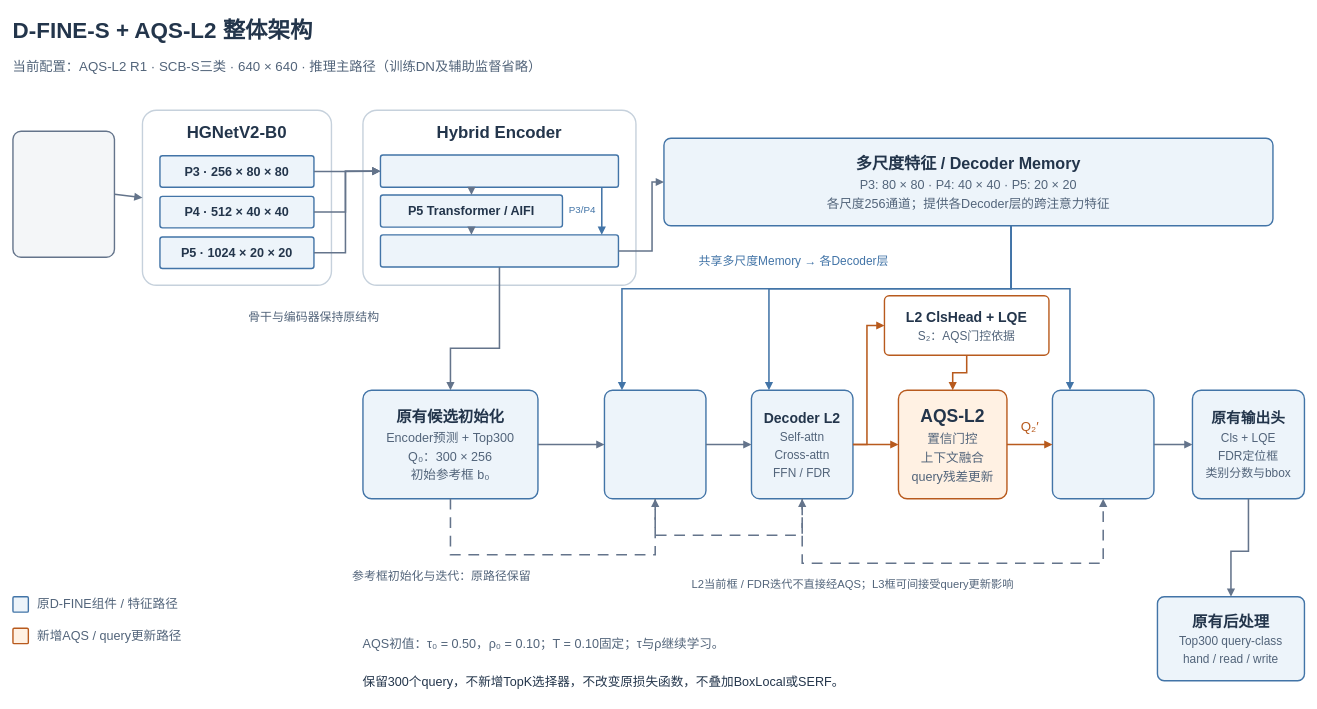
Image size: 1317x709. Some labels were removed from this diagram. Here are the shapes that lost their labels. From the top down, the box of each, then its label:
(379, 154, 619, 188): 1 × 1 投影：各尺度 → 256通道
(12, 130, 115, 258): 输入图像 640 × 640 RGB
(379, 234, 619, 267): 跨尺度融合：FPN → PAN
(603, 389, 706, 499): Decoder L1 Self-attn Cross-attn FFN / FDR
(1051, 389, 1154, 499): Decoder L3 Self-attn Cross-attn FFN / FDR
